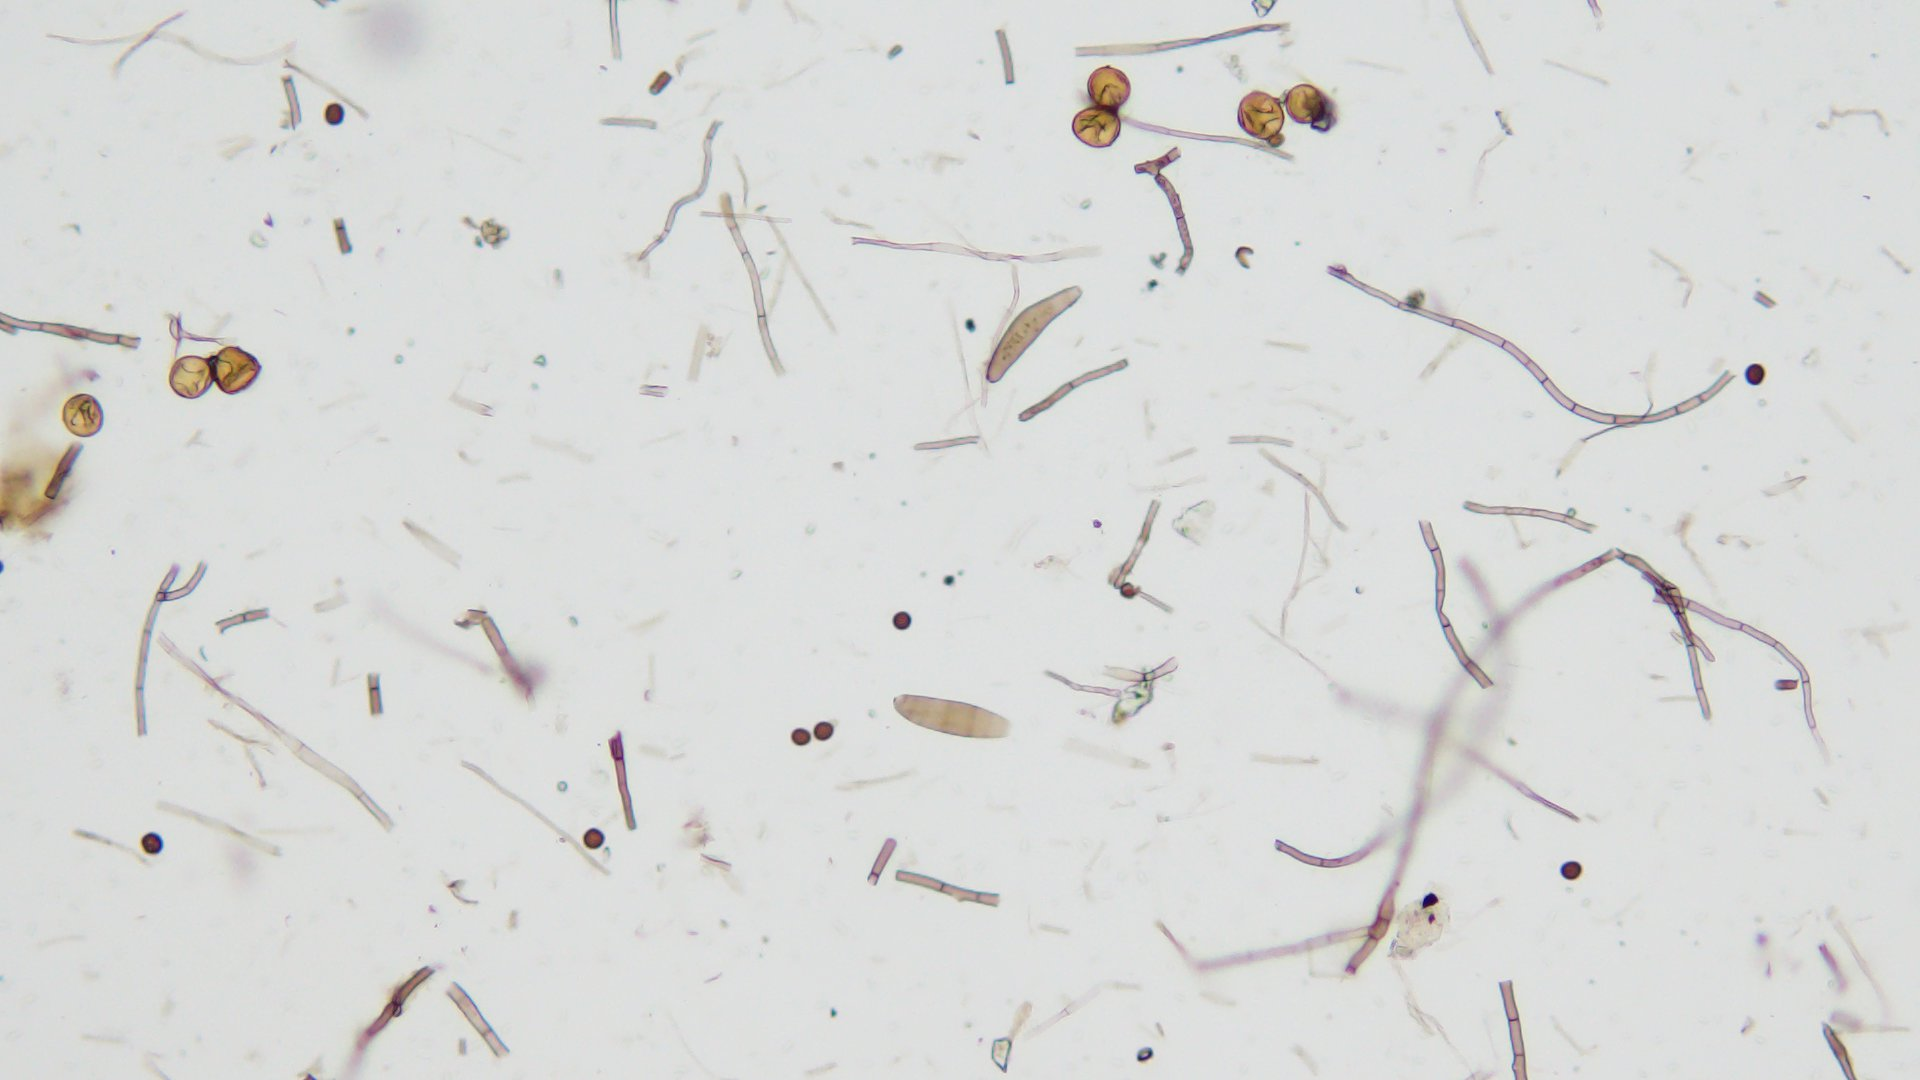dbb_spore: (985, 284, 1087, 388), (890, 692, 1010, 742)
shs_spore: (582, 825, 605, 848), (323, 103, 344, 125), (1559, 862, 1584, 881), (814, 721, 833, 741), (1745, 365, 1764, 385), (142, 833, 164, 852), (791, 728, 811, 746), (893, 615, 913, 629)
xb_spore: (1240, 90, 1287, 145), (212, 349, 262, 392), (170, 357, 215, 402), (1071, 107, 1120, 146), (61, 396, 105, 436), (1288, 80, 1327, 128), (1089, 66, 1129, 105)
